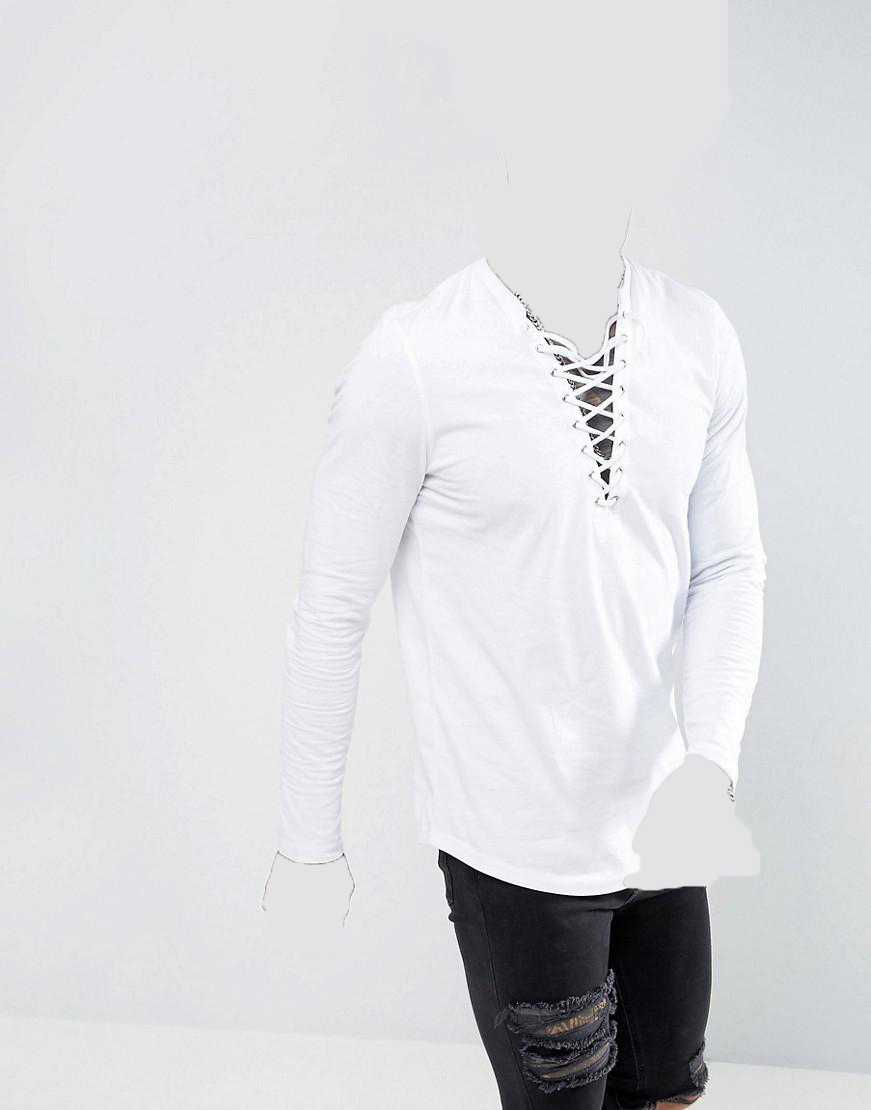teeshirt: (276, 257, 822, 900)
